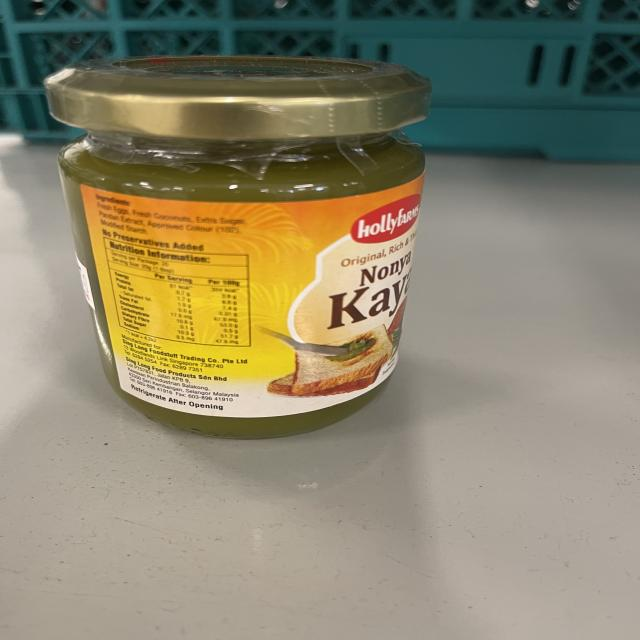object_name: (50, 61, 414, 437)
